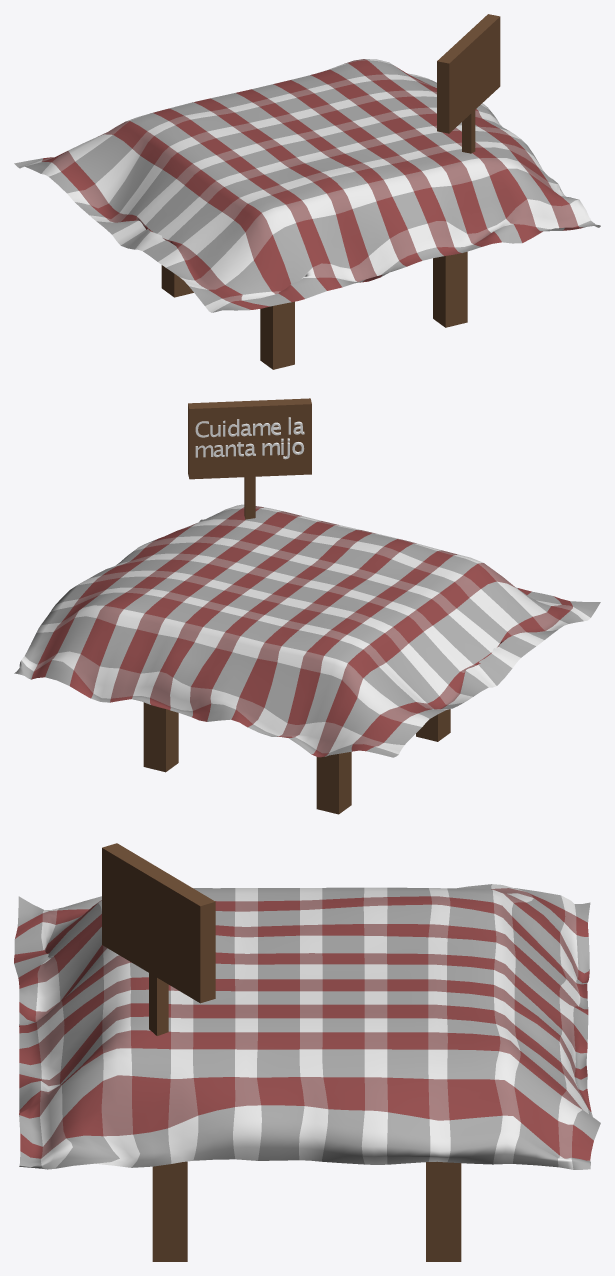
Rendered from Spawn.fbx.
3 views of the same model, one above another, from view 1: azimuth 30°, elevation 25°; view 2: azimuth 150°, elevation 25°; view 3: azimuth 270°, elevation 25° (orthographic). The views are drawn at different scales.
Visible parts, largest first — view 1: pCube65; view 2: pCube65; view 3: pCube65.
Part boxes in pixels (bbox=[...]): pCube65: bbox=[14, 14, 600, 369]; pCube65: bbox=[14, 398, 600, 814]; pCube65: bbox=[14, 843, 600, 1261].
Size of the model in its own units: 62.35 by 42.24 by 57.71.
